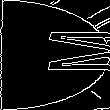M_W: (4, 31, 106, 79)
